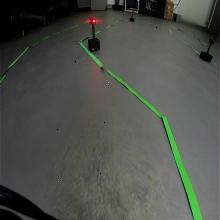red: (90, 18, 96, 26)
